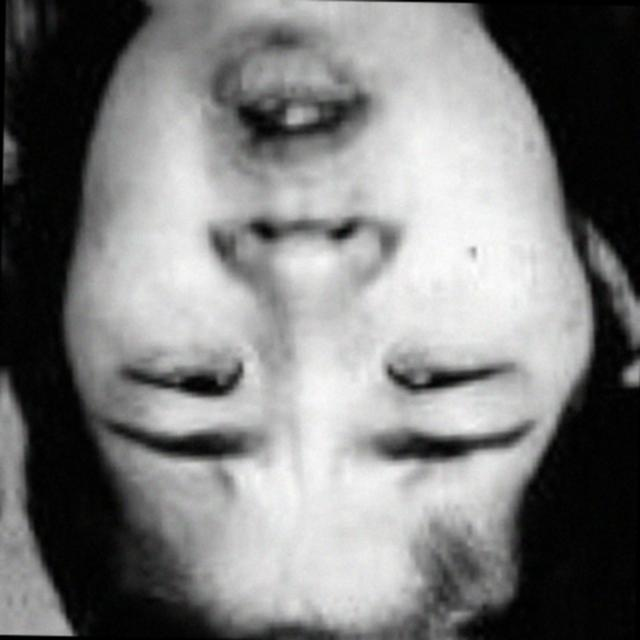disgust: (78, 9, 567, 559)
